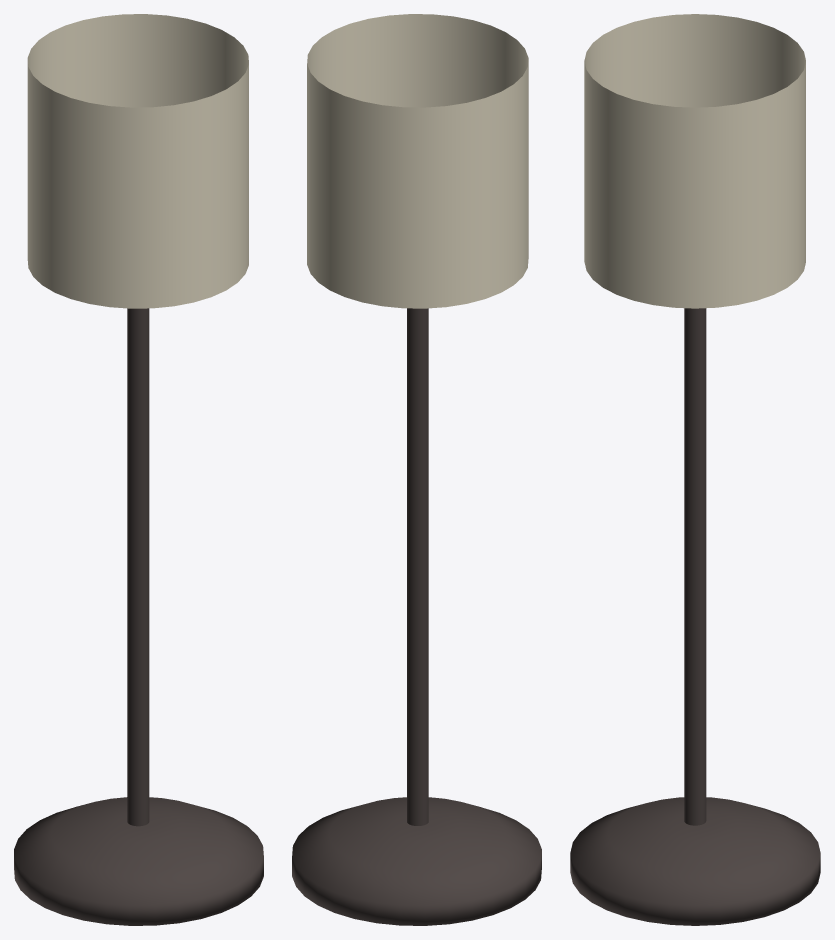
The model's file is lampara.fbx.
3 views of the same model, side by side, from view 1: azimuth 30°, elevation 25°; view 2: azimuth 150°, elevation 25°; view 3: azimuth 270°, elevation 25° (orthographic).
Visible parts, largest first — view 1: lámpara; view 2: lámpara; view 3: lámpara.
Boxes of the visible parts, x1=… form: lámpara: x1=14, y1=14, x2=263, y2=925; lámpara: x1=292, y1=14, x2=541, y2=925; lámpara: x1=570, y1=14, x2=820, y2=925.
Bounding box in the file's own units: 109 × 389 × 109.
